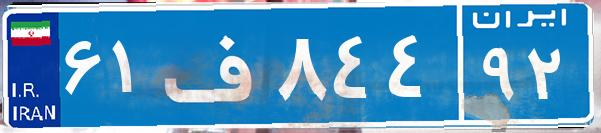1: (110, 28, 158, 105)
2: (525, 38, 570, 115)
4: (385, 28, 445, 110), (330, 28, 385, 110)
6: (57, 26, 110, 107)
8: (273, 28, 330, 110)
9: (475, 38, 525, 113)
ف: (158, 15, 273, 115)
